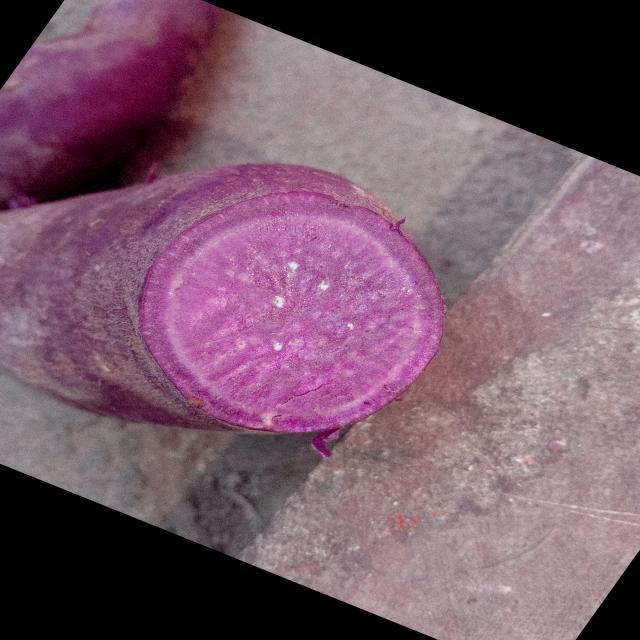Healthy Sweet Potato: (140, 192, 443, 432)
